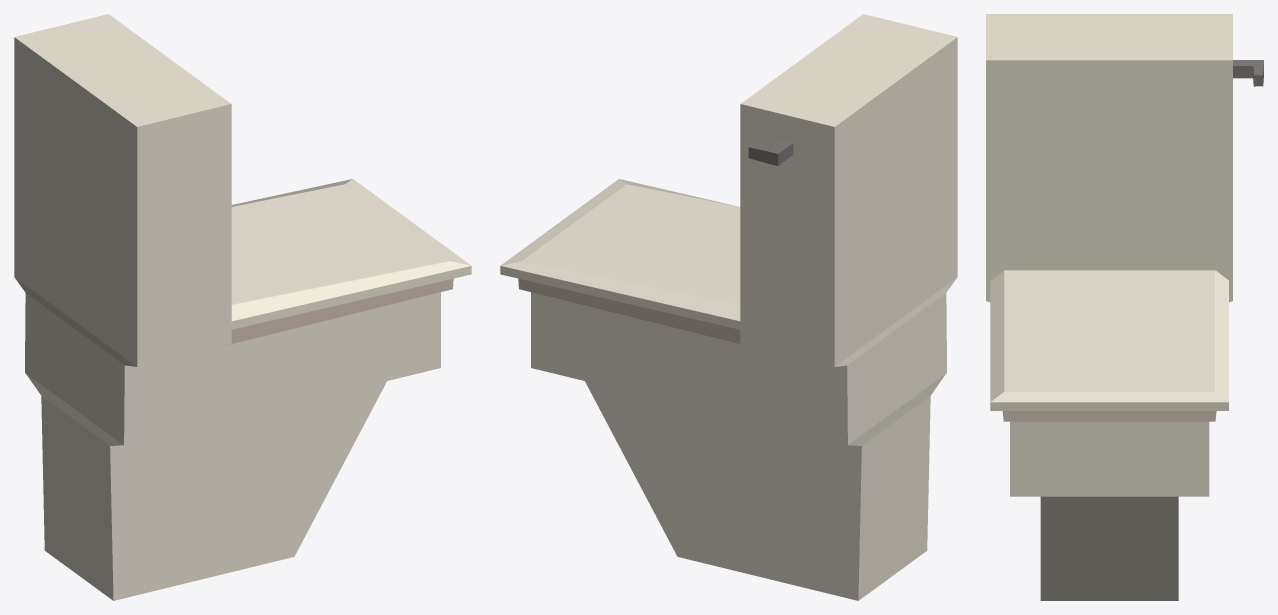
The model's file is toilet1.fbx.
The picture shows the model from 3 angles, left to right: view 1: azimuth 30°, elevation 25°; view 2: azimuth 150°, elevation 25°; view 3: azimuth 270°, elevation 25°; orthographic projection.
Visible parts, largest first — view 1: toilet1; view 2: toilet1; view 3: toilet1.
Part boxes in pixels (left/top/right/bottom): toilet1: left=14, top=14, right=471, bottom=600; toilet1: left=500, top=14, right=957, bottom=600; toilet1: left=986, top=14, right=1263, bottom=600.
Bounding box in the file's own units: 50.52 × 71.28 × 99.7.
